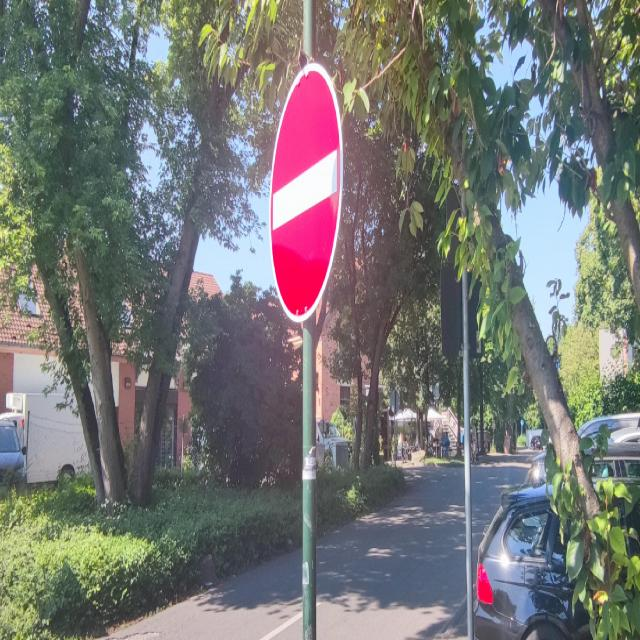no entry: (267, 59, 347, 329)
